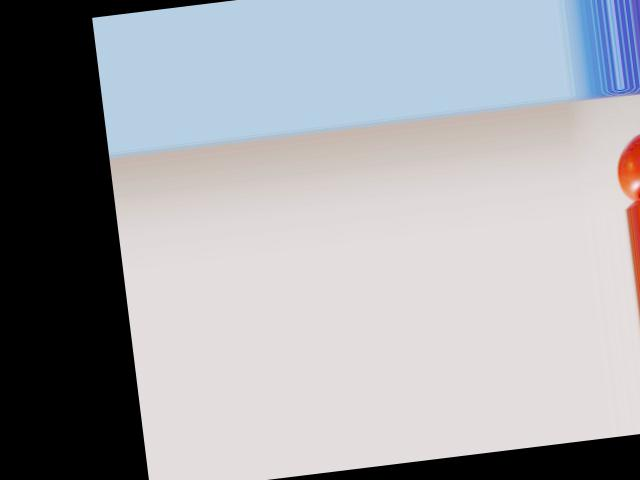tomato: (613, 127, 640, 202)
